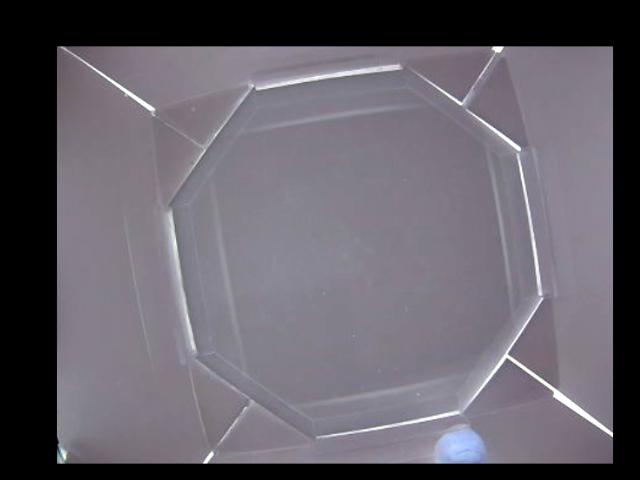Pebble: (434, 428, 487, 463)
